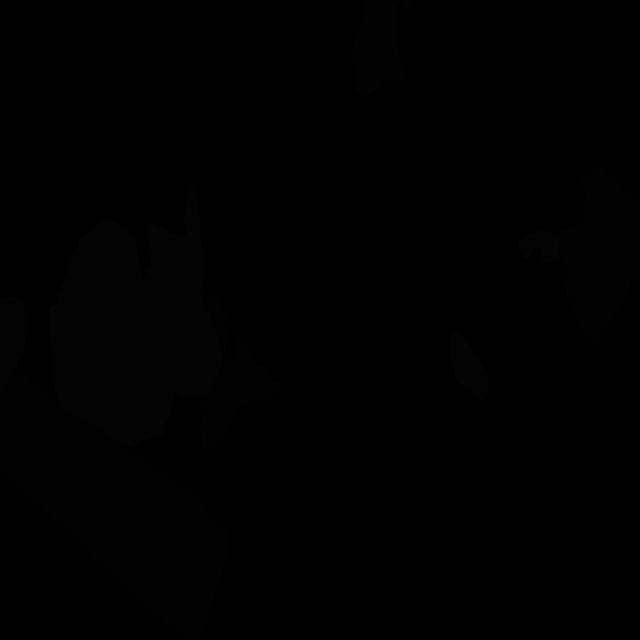cardboard: (0, 368, 229, 640), (553, 165, 640, 355), (198, 292, 280, 459)
metal: (350, 0, 413, 97)
soft_plastic: (48, 218, 174, 447), (142, 185, 224, 397), (449, 332, 488, 401), (0, 294, 26, 396), (518, 230, 560, 265)
